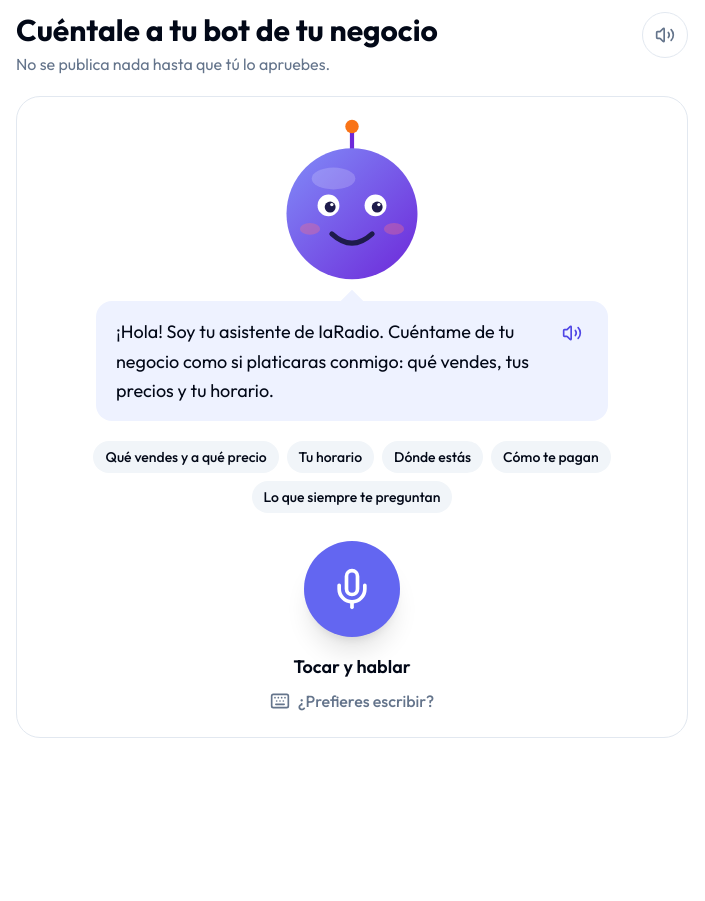
VoiceSetupPage › asks what is missing, one thing at a time; skip and finish work
This screenshot has width=705, height=901.
Click the button "¿Prefieres escribir?" at coordinates (352, 701), box top-left (270, 689), bottom-right (434, 713)
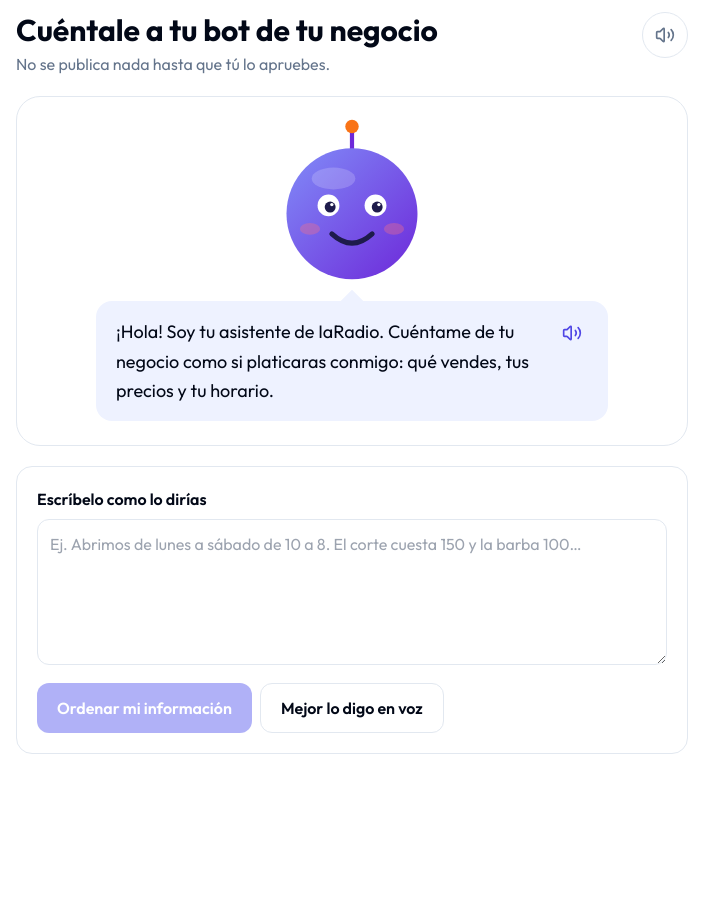
Replace the text in the text box with "corte 150, barba 100" at coordinates (352, 592), box top-left (37, 519), bottom-right (667, 665)
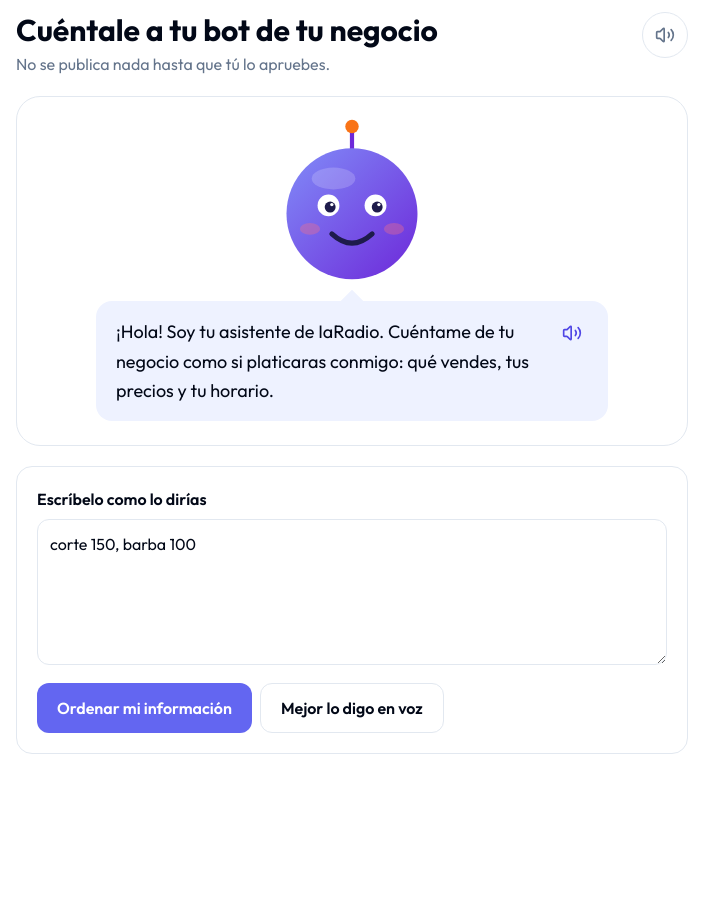
Click the button "Ordenar mi información" at coordinates (144, 708), box top-left (37, 683), bottom-right (252, 733)
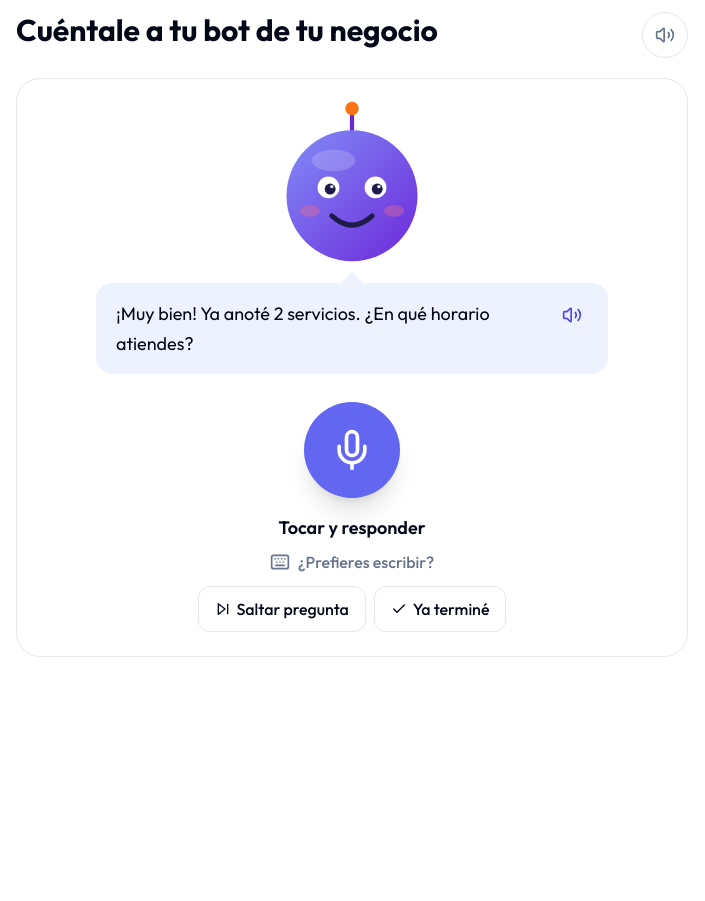
Check: the text "¡Muy bien! Ya anoté 2 servicios. ¿En qué horario atiendes?" is shown, box top-left (116, 299), bottom-right (544, 358)
Check: the button "Saltar pregunta" is shown
Click the button "Saltar pregunta" at coordinates (282, 609), box top-left (198, 586), bottom-right (366, 632)
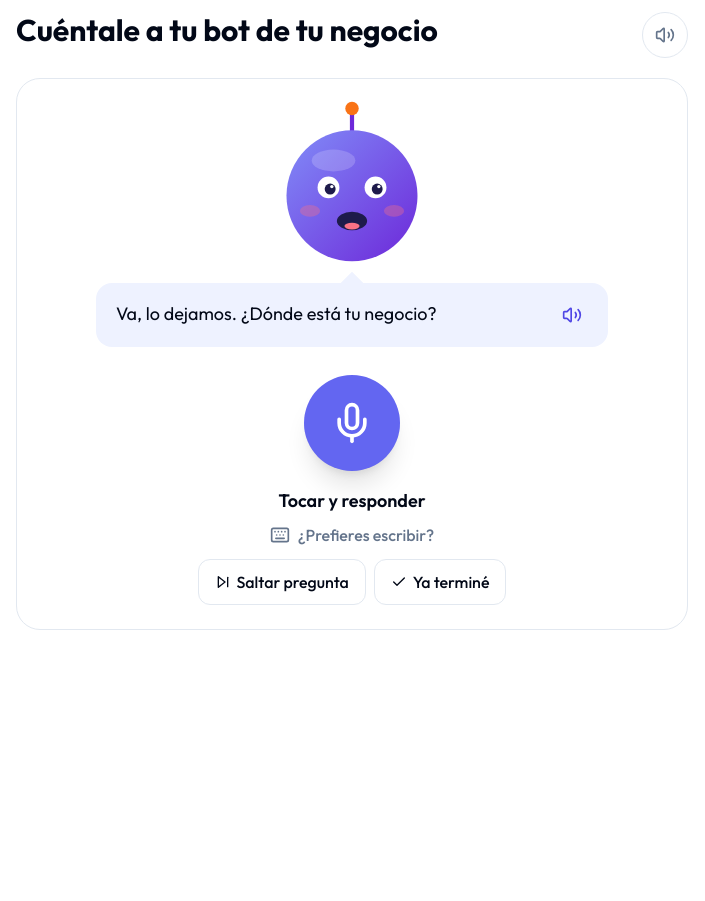
Check: the text "Va, lo dejamos. ¿Dónde está tu negocio?" is shown, box top-left (116, 302), bottom-right (436, 325)
Click the button "Ya terminé" at coordinates (440, 582), box top-left (374, 559), bottom-right (506, 605)
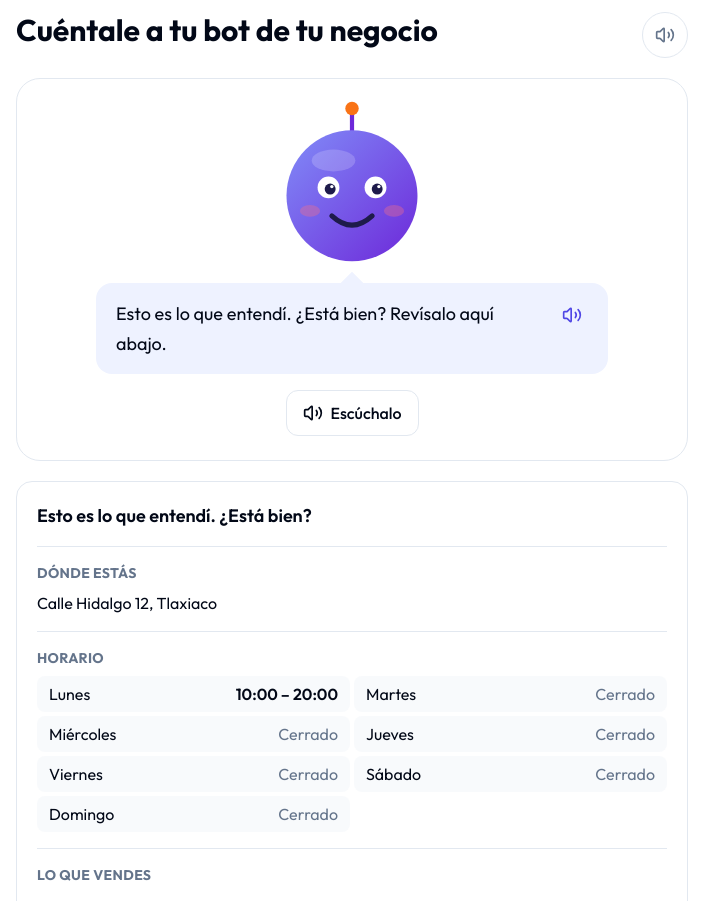
Check: the text "Esto es lo que entendí. ¿Está bien?" is shown, box top-left (37, 504), bottom-right (312, 527)
